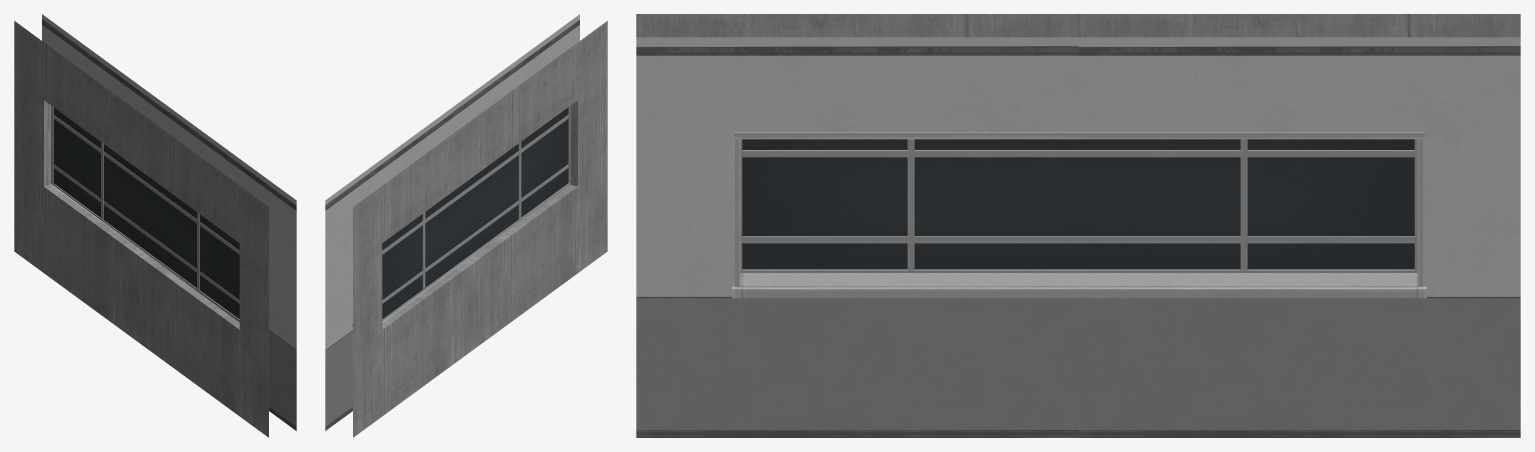
Rendered from HH_Hospital_InteriorShowcase_8m_02.fbx.
3 views of the same model, side by side, from view 1: azimuth 30°, elevation 25°; view 2: azimuth 150°, elevation 25°; view 3: azimuth 270°, elevation 25° (orthographic). The views are drawn at different scales.
Parts seen in each view (by area): view 1: HH_Hospital_InteriorShowcase_8m_02_LOD0; view 2: HH_Hospital_InteriorShowcase_8m_02_LOD0; view 3: HH_Hospital_InteriorShowcase_8m_02_LOD0.
Boxes of the visible parts, x1,y1,x2,y2 form: HH_Hospital_InteriorShowcase_8m_02_LOD0: (14, 14, 296, 437); HH_Hospital_InteriorShowcase_8m_02_LOD0: (325, 14, 607, 437); HH_Hospital_InteriorShowcase_8m_02_LOD0: (636, 14, 1520, 437).
Size of what is drawn, in the model's own units: 55.34 by 400 by 800.
